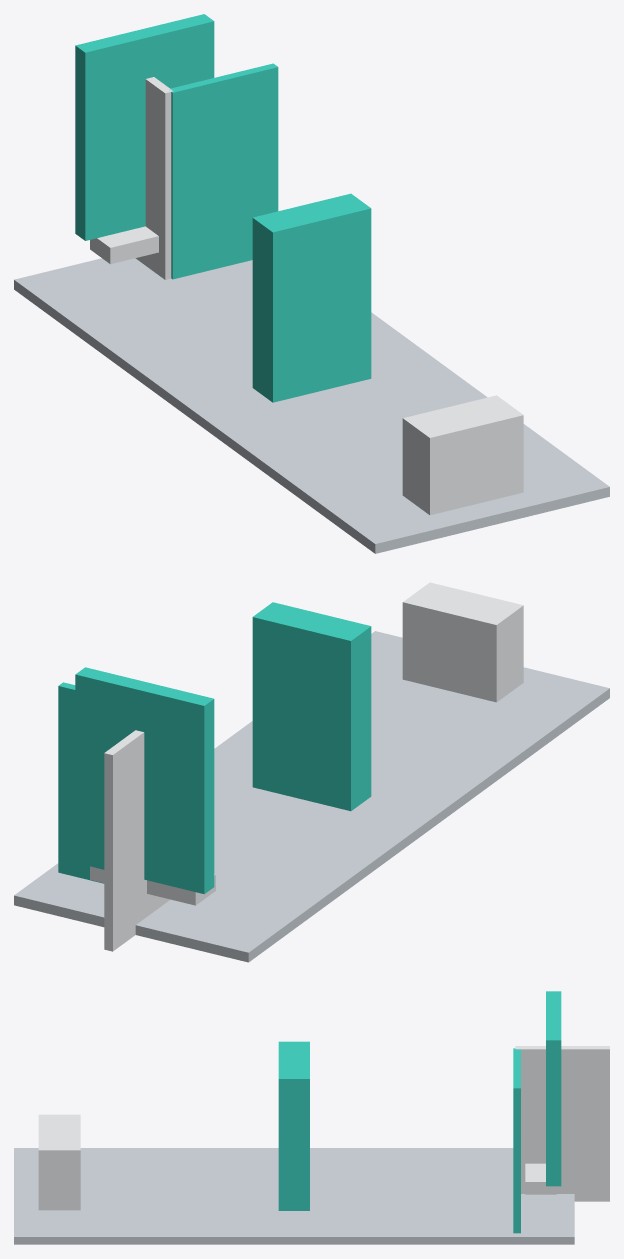
3 views of the same model, one above another, from view 1: azimuth 30°, elevation 25°; view 2: azimuth 150°, elevation 25°; view 3: azimuth 270°, elevation 25° (orthographic). The views are drawn at different scales.
Parts seen in each view (by area): view 1: Exhibition Booth Concept; view 2: Exhibition Booth Concept; view 3: Exhibition Booth Concept.
Part boxes in pixels (x1,y1,x2,y2): Exhibition Booth Concept: [14, 14, 609, 553]; Exhibition Booth Concept: [14, 582, 609, 962]; Exhibition Booth Concept: [14, 991, 609, 1244].
Size of the model in its own units: 3 by 2.9 by 8.51.
